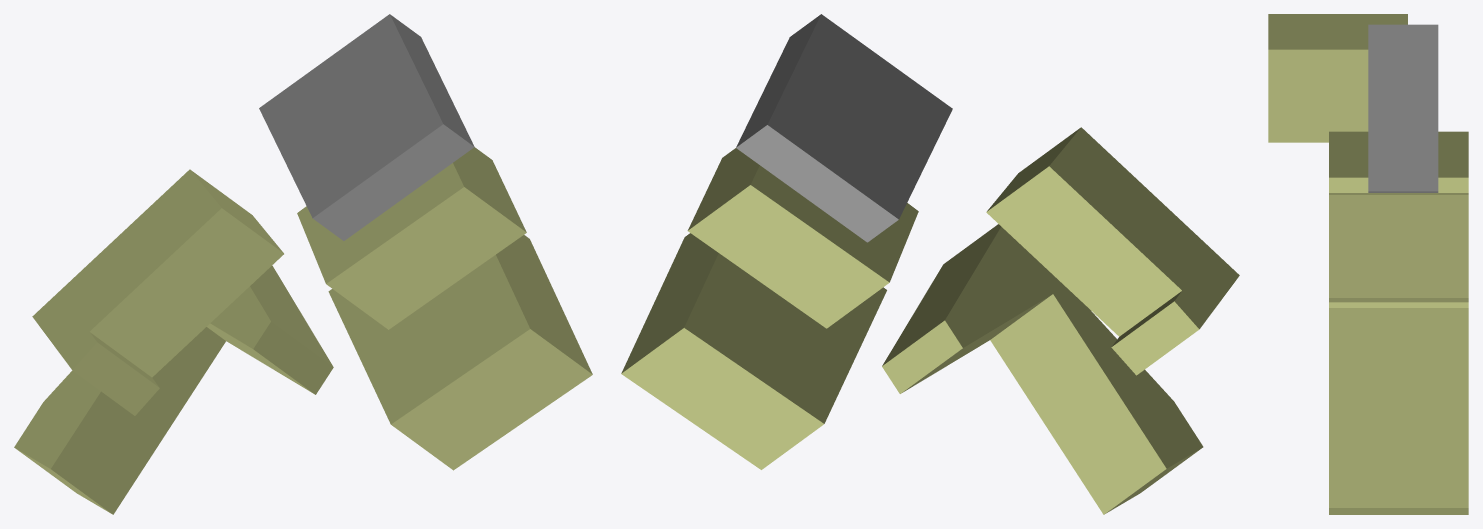
3 views of the same model, side by side, from view 1: azimuth 30°, elevation 25°; view 2: azimuth 150°, elevation 25°; view 3: azimuth 270°, elevation 25° (orthographic). The views are drawn at different scales.
Parts seen in each view (by area): view 1: 0_1_0_2_0_0_3_1_3_1; view 2: 0_1_0_2_0_0_3_1_3_1; view 3: 0_1_0_2_0_0_3_1_3_1.
Boxes of the visible parts, x1,y1,x2,y2 form: 0_1_0_2_0_0_3_1_3_1: (14, 14, 592, 514); 0_1_0_2_0_0_3_1_3_1: (621, 14, 1239, 514); 0_1_0_2_0_0_3_1_3_1: (1268, 14, 1468, 514).
Bounding box in the file's own units: 29.04 × 22.41 × 8.6.
